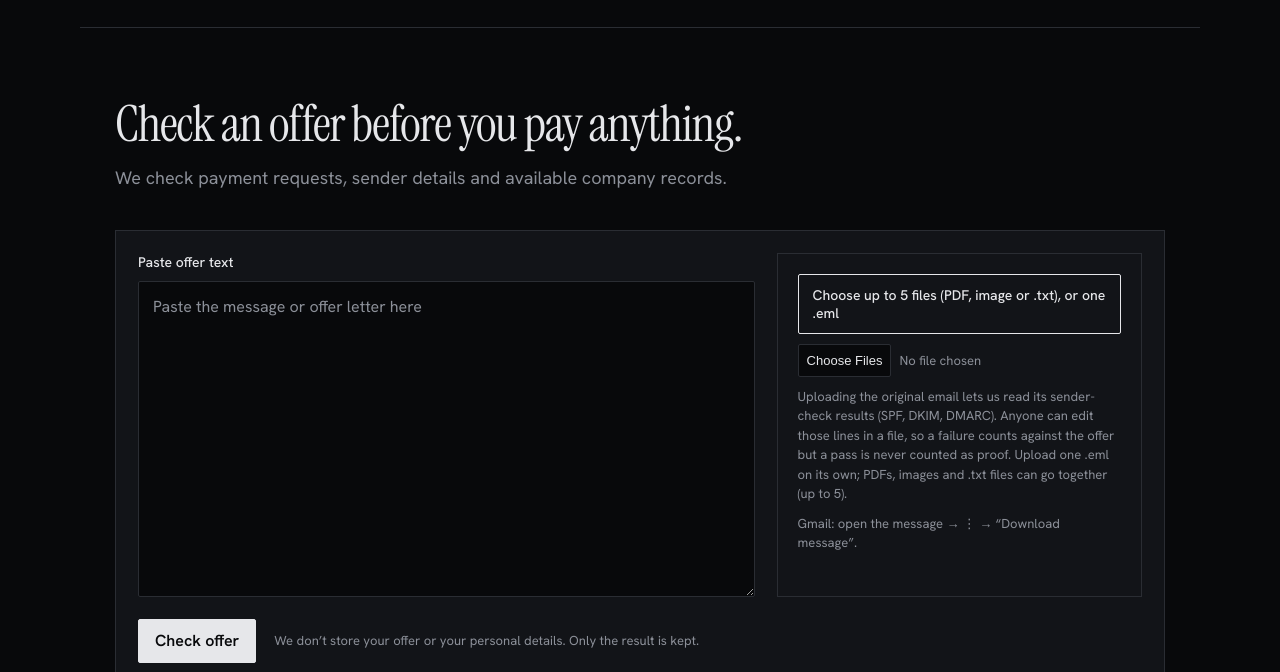
Test: add evidence and check again › sends the earlier text together with the new text, then shows the new result
In the text box labelled "Paste offer text": (446, 439) [138,281,755,597], type "Test offer text"
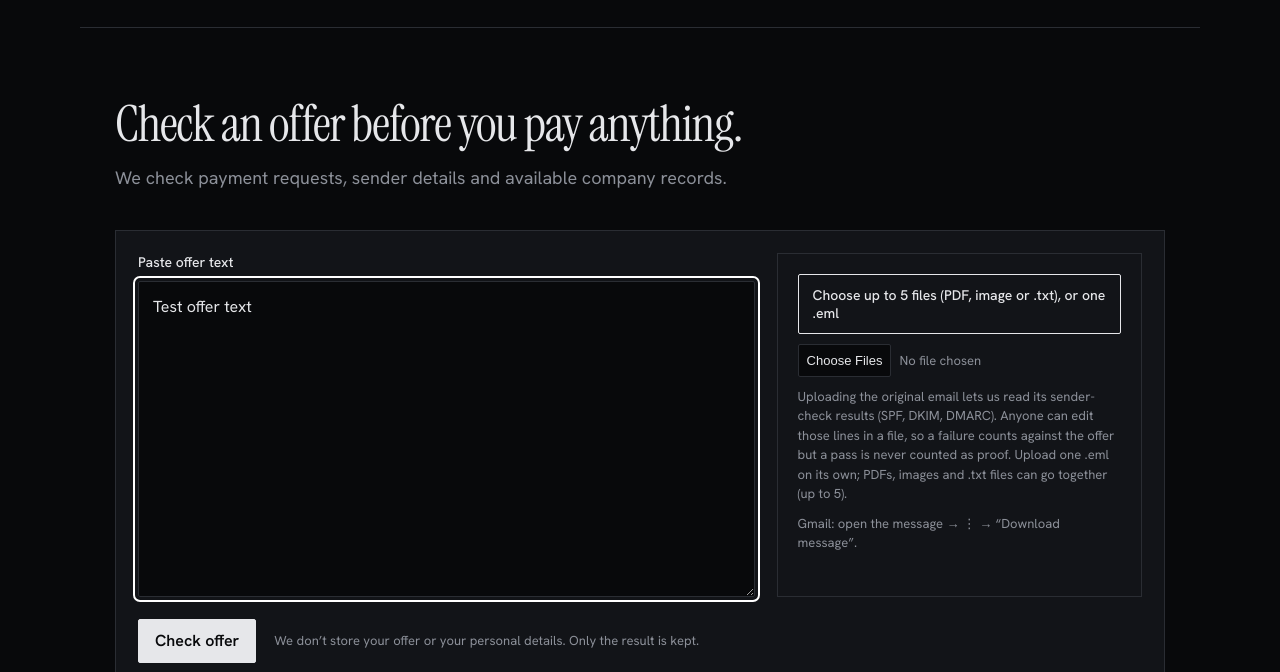
Click the button "Check offer": (197, 641) [138,619,256,663]
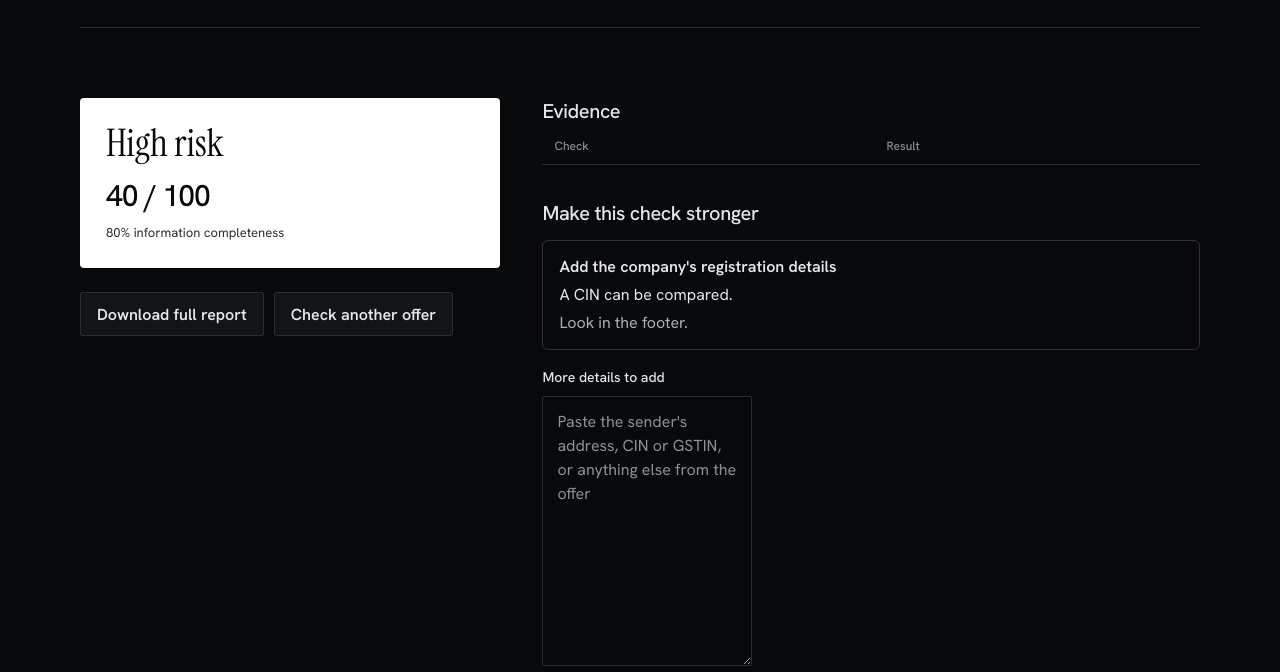
In the text box labelled "More details to add": (647, 531) [542,396,752,666], type "CIN: U74999DL2016PTC298345"
(page scrolled)
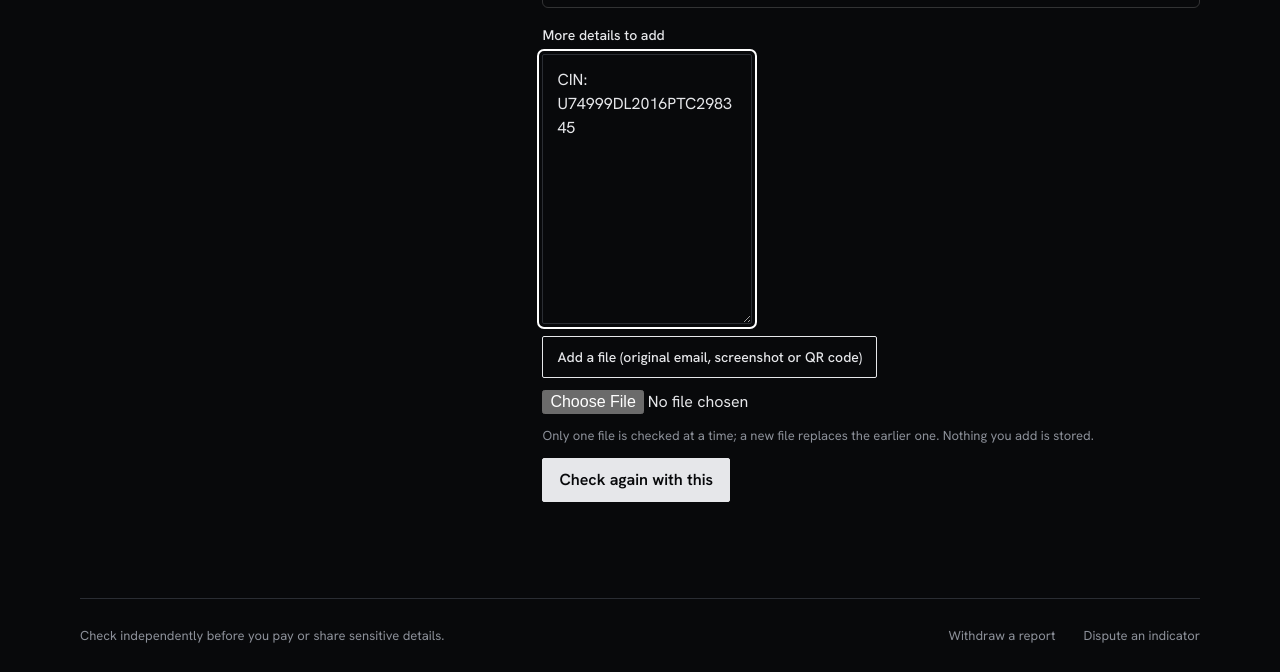
Click the button "Check again with this": (636, 480) [542,458,730,502]
(page scrolled)
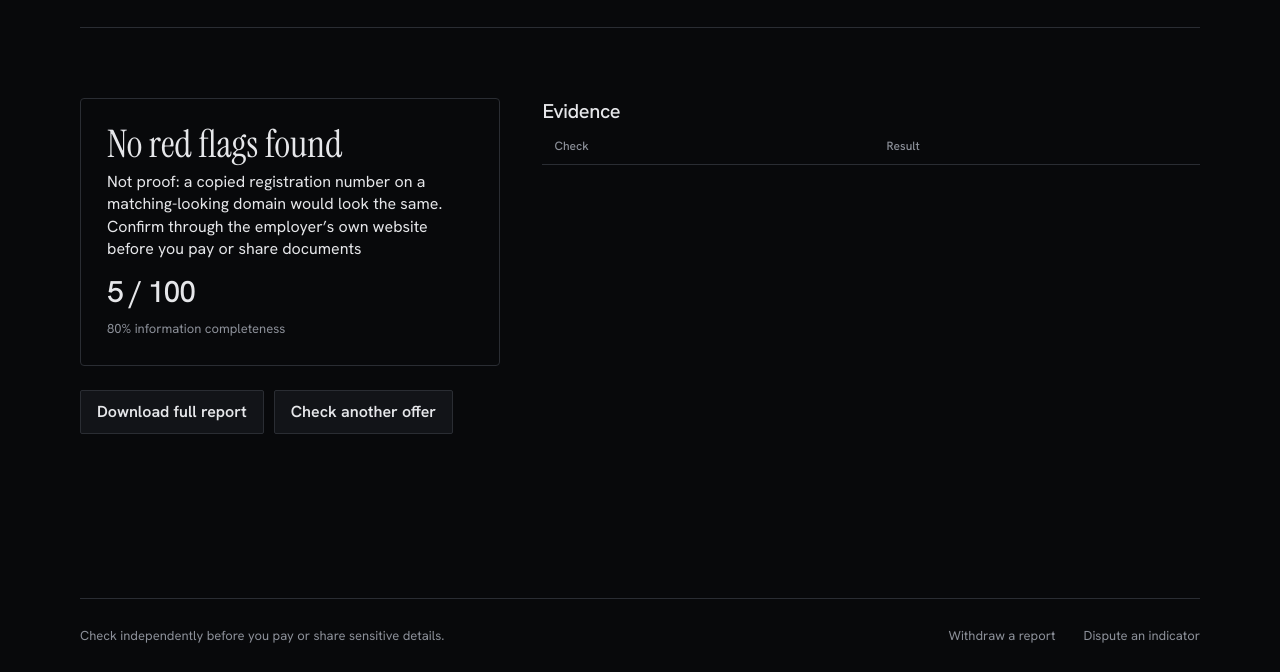
Result: the heading "No red flags found" is shown at [107,119,342,169]
